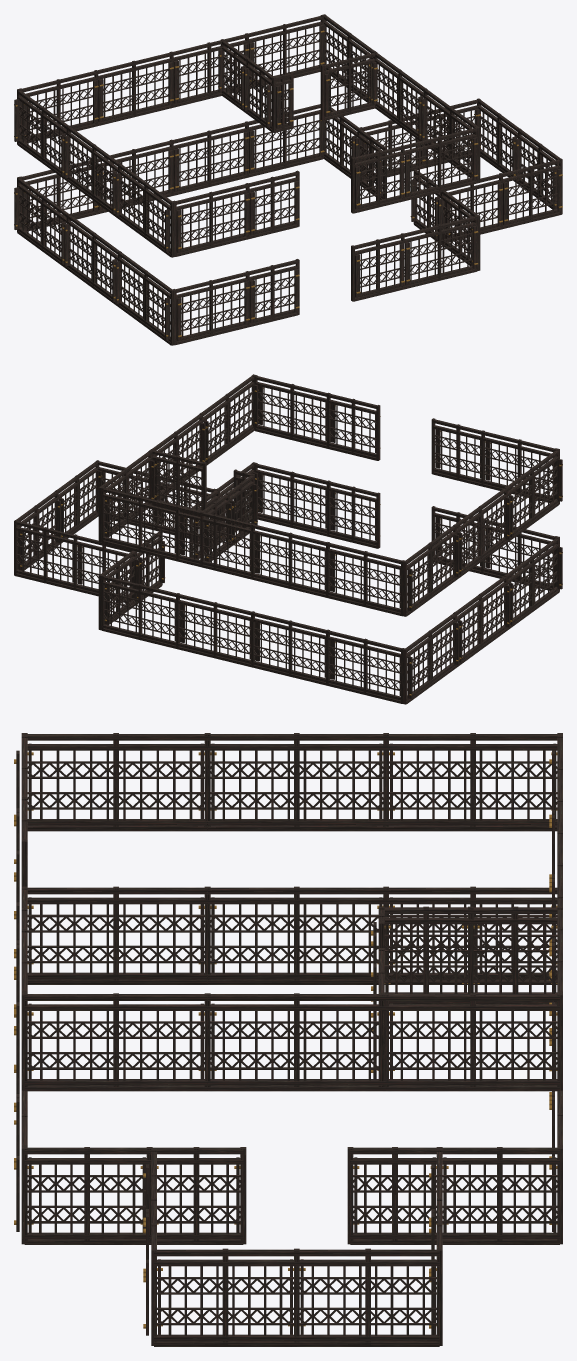
File: tea_lattice.glb
3 views of the same model, one above another, from view 1: azimuth 30°, elevation 25°; view 2: azimuth 150°, elevation 25°; view 3: azimuth 270°, elevation 25° (orthographic). The views are drawn at different scales.
Parts seen in each view (by area): view 1: tea_lattice0, tea_lattice1; view 2: tea_lattice0, tea_lattice1; view 3: tea_lattice1, tea_lattice0.
Boxes of the visible parts, box(x1,y1,x2,y2) form: tea_lattice0: box(14, 14, 480, 345); tea_lattice1: box(14, 14, 562, 257); tea_lattice0: box(98, 430, 562, 704); tea_lattice1: box(14, 374, 562, 616); tea_lattice1: box(14, 733, 562, 1346); tea_lattice0: box(14, 735, 562, 1244).
Size of the model in its own units: 19.51 by 6.17 by 12.31.
1 material, 1 textured.
